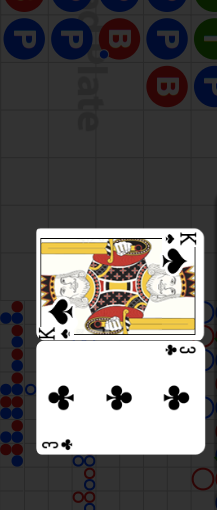3C: (41, 437, 75, 452)
KS: (162, 230, 198, 246)
